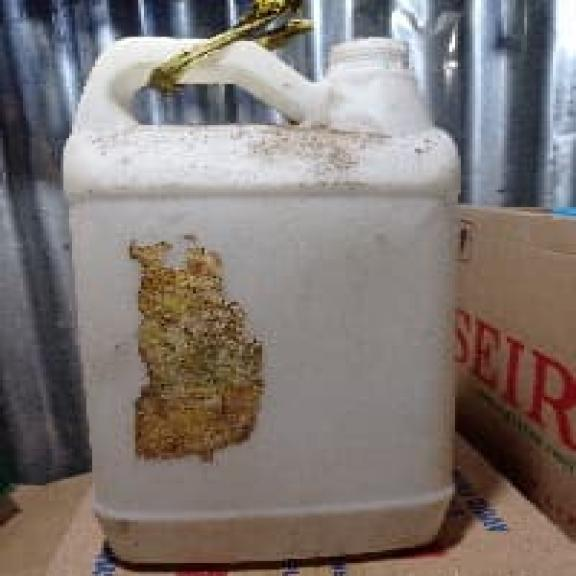Plastik: (58, 37, 455, 556)
